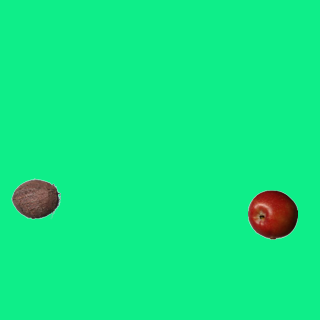Apple Braeburn: (247, 189, 297, 239)
Cocos: (10, 173, 60, 223)
